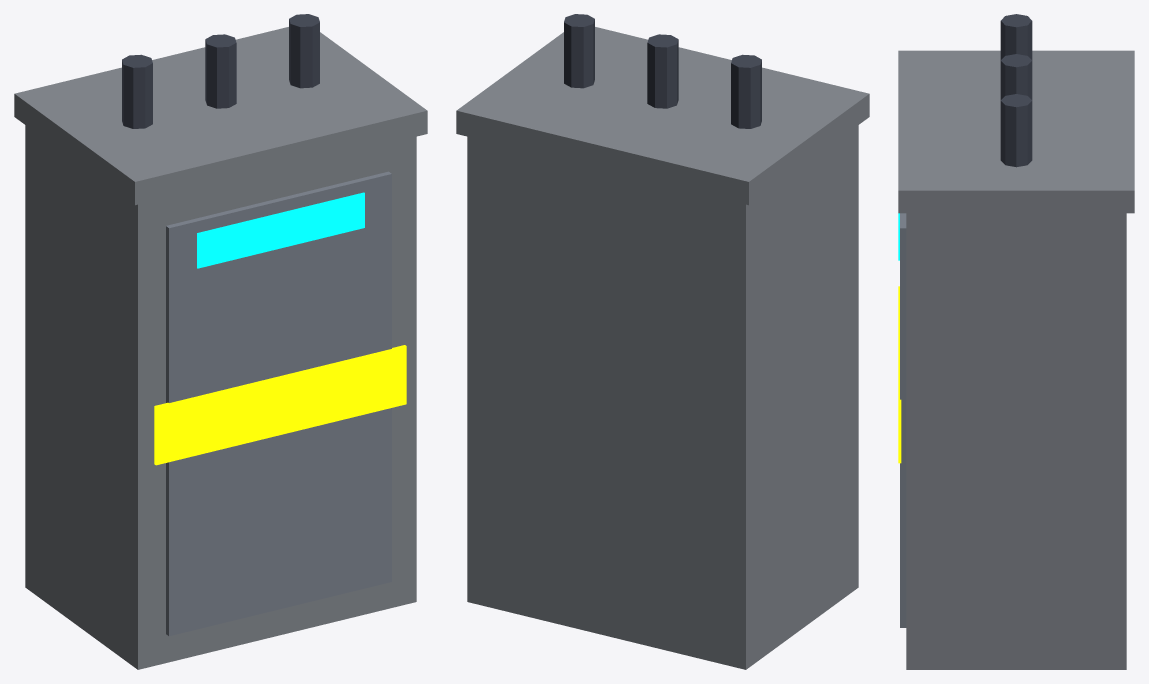
The model's file is INFRA_Transformer_Box.glb.
The picture shows the model from 3 angles, left to right: view 1: azimuth 30°, elevation 25°; view 2: azimuth 150°, elevation 25°; view 3: azimuth 270°, elevation 25°; orthographic projection. The views are drawn at different scales.
Visible parts, largest first — view 1: INFRA_Transformer_Box; view 2: INFRA_Transformer_Box; view 3: INFRA_Transformer_Box.
Part boxes in pixels (left/top/right/bottom): INFRA_Transformer_Box: left=14, top=14, right=427, bottom=669; INFRA_Transformer_Box: left=456, top=14, right=869, bottom=669; INFRA_Transformer_Box: left=898, top=14, right=1134, bottom=669.
Bounding box in the file's own units: 1.05 × 1.9 × 0.75.
